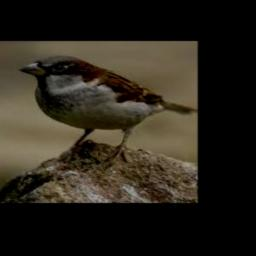Sparrow: (18, 56, 198, 163)
